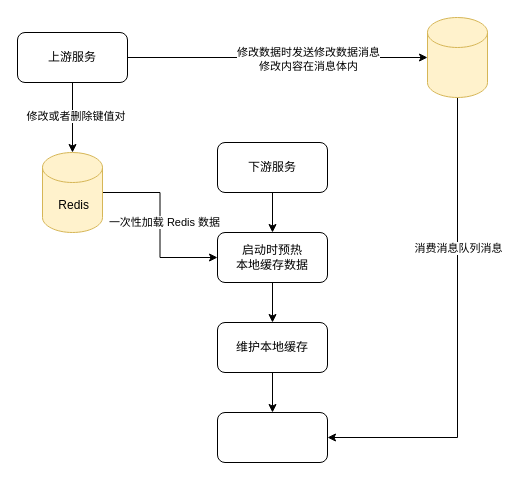
Image size: 519x480. Some labels were removed from this diagram. Here are the shapes that lost their labels. From the top down, the centre of each, then its label:
pixel 457 57: Kafka
pixel 272 437: 更新本地缓存值
